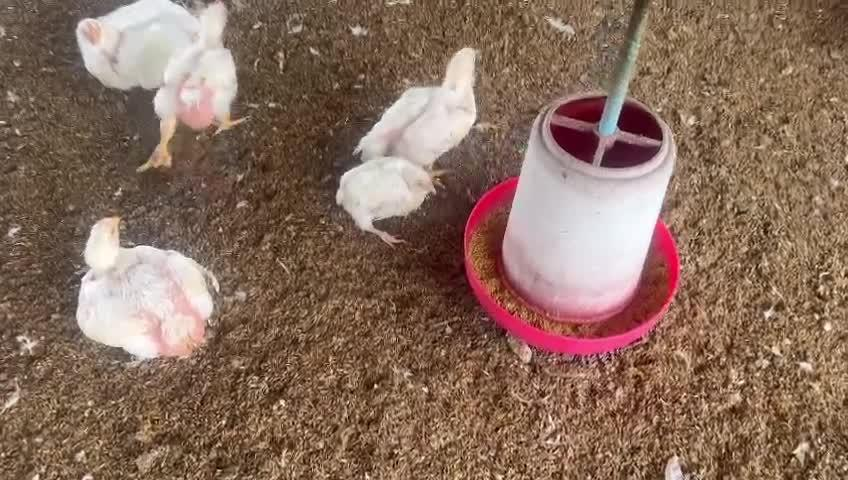AbNormal: (77, 215, 216, 359), (357, 49, 478, 172), (334, 157, 437, 245)
Normal: (135, 5, 241, 175), (77, 0, 195, 92)
